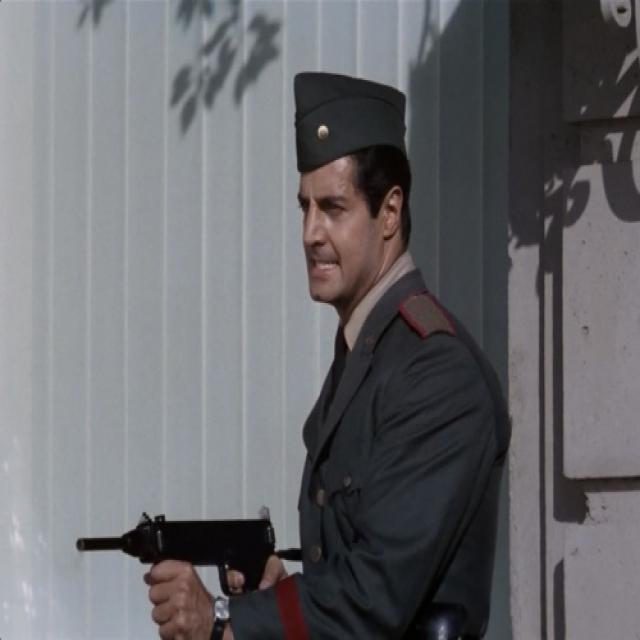rifle: (73, 509, 286, 593)
